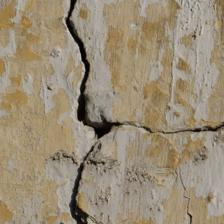Crack: (64, 4, 109, 129), (69, 121, 119, 222), (125, 117, 224, 142)
